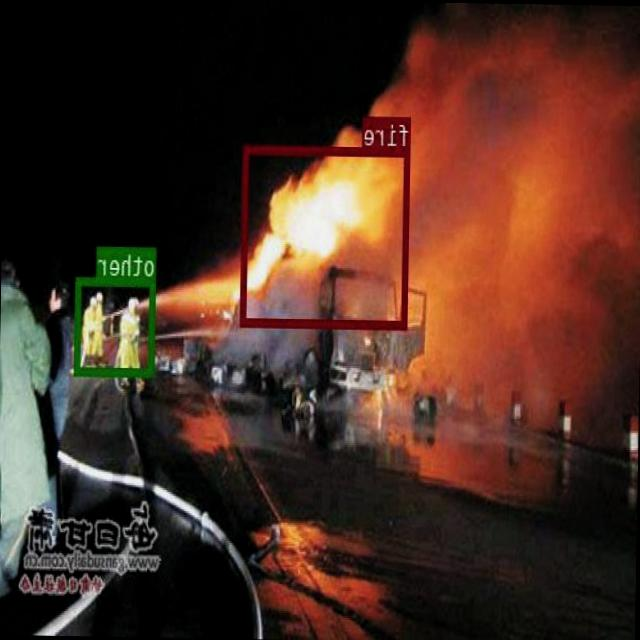fire: (241, 143, 411, 327)
